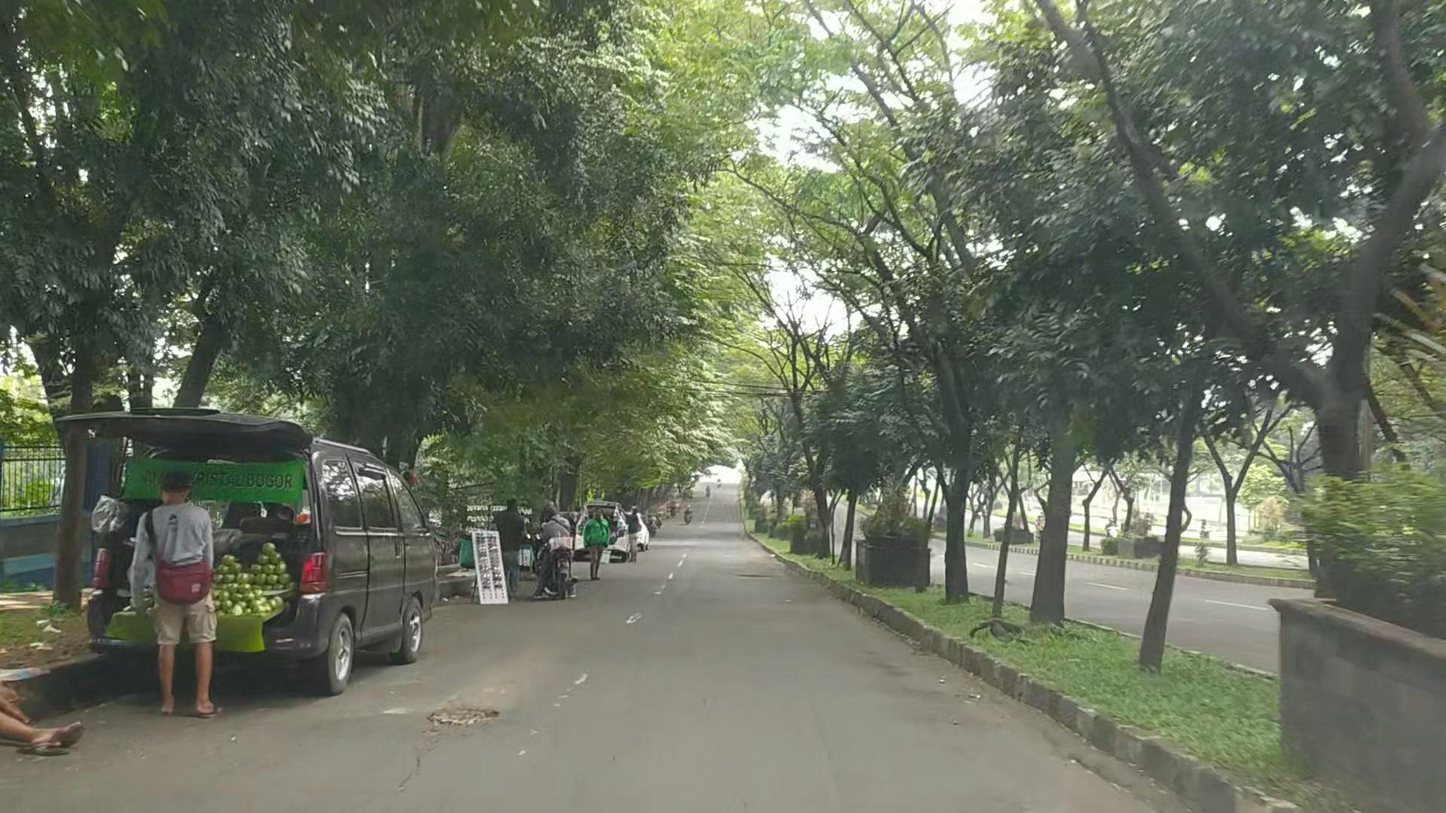pothole: (427, 704, 504, 730)
